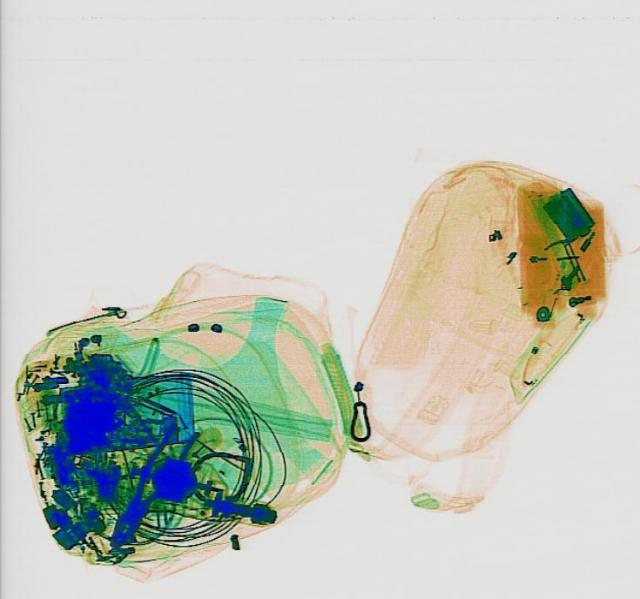Pliers: (93, 418, 201, 555)
